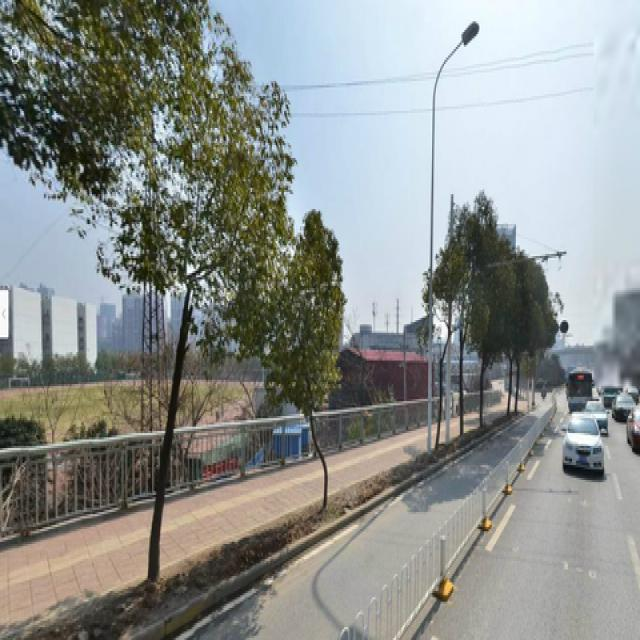cinn: (96, 28, 289, 591)
